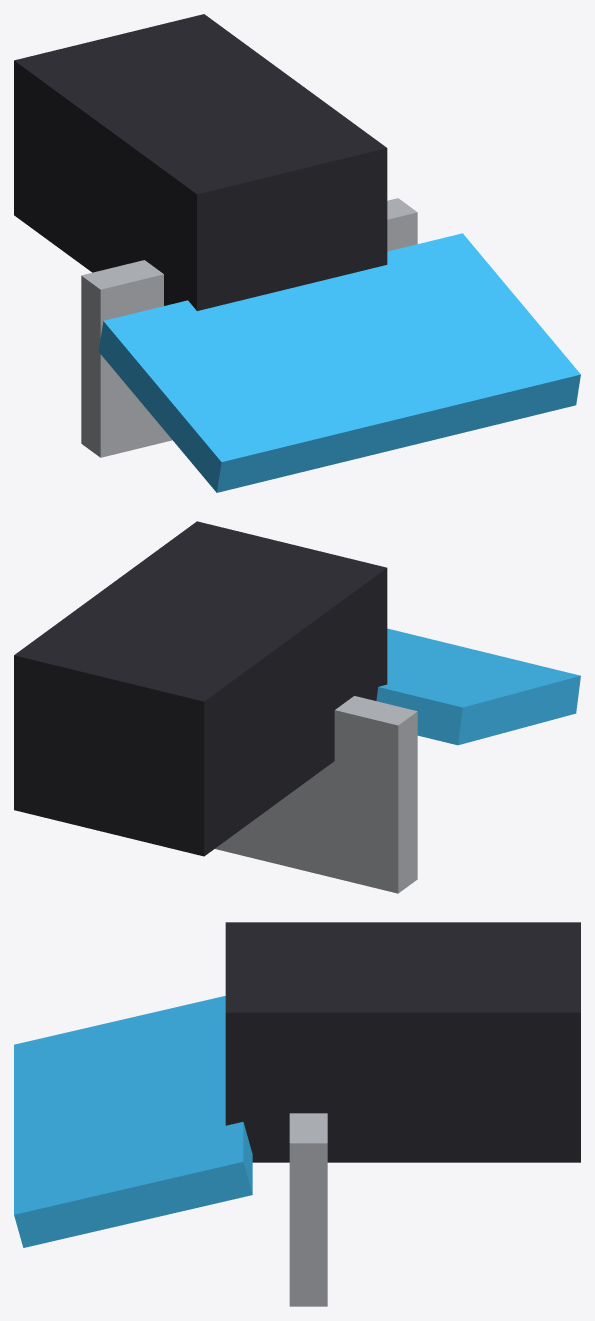
Rendered from hacker_console.glb.
The picture shows the model from 3 angles, top to bottom: view 1: azimuth 30°, elevation 25°; view 2: azimuth 150°, elevation 25°; view 3: azimuth 270°, elevation 25°; orthographic projection. The views are drawn at different scales.
Visible parts, largest first — view 1: stand, screen, keyboard; view 2: stand, keyboard, screen; view 3: stand, screen, keyboard.
Boxes of the visible parts, x1=… form: stand: x1=14, y1=14, x2=387, y2=310; screen: x1=98, y1=233, x2=580, y2=492; keyboard: x1=81, y1=198, x2=417, y2=457; stand: x1=14, y1=521, x2=387, y2=856; keyboard: x1=215, y1=696, x2=417, y2=893; screen: x1=376, y1=628, x2=580, y2=745; stand: x1=225, y1=922, x2=580, y2=1162; screen: x1=14, y1=996, x2=252, y2=1247; keyboard: x1=289, y1=1113, x2=327, y2=1306.
Size of the model in its own units: 0.85 by 0.615 by 1.2.
